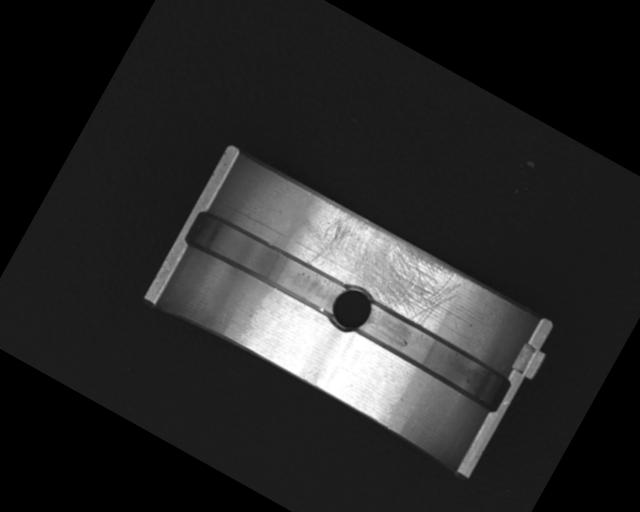gap: (183, 204, 349, 322), (355, 302, 514, 412)
hole: (323, 280, 378, 339)
scratch: (295, 199, 467, 335)
